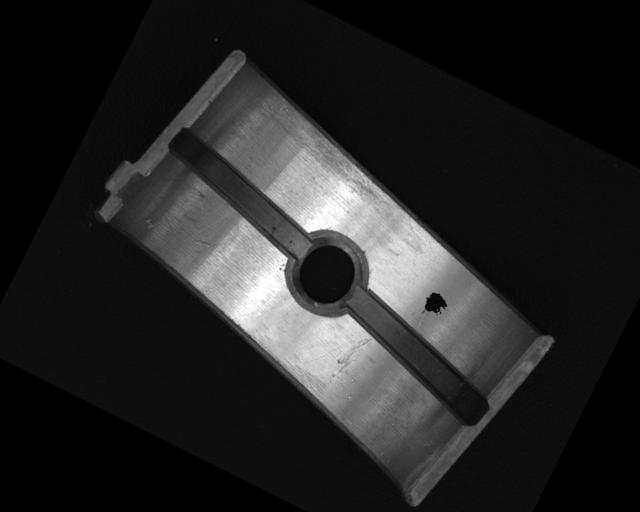blot: (418, 288, 452, 323)
bruise: (195, 235, 216, 251), (140, 215, 158, 230)
gap: (323, 283, 510, 428), (149, 124, 332, 261)
hole: (275, 220, 377, 323)
nick: (327, 327, 373, 385)
scratch: (251, 94, 416, 215)
